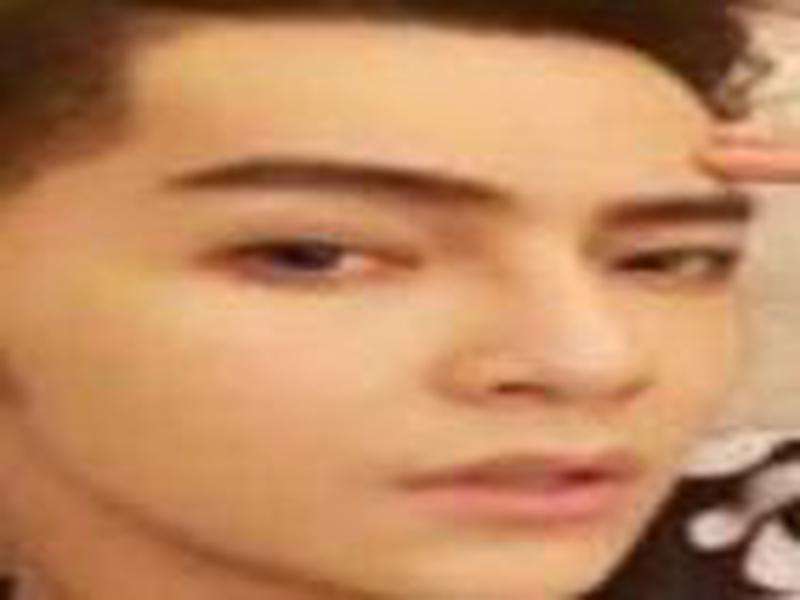without_mask: (8, 94, 745, 600)
